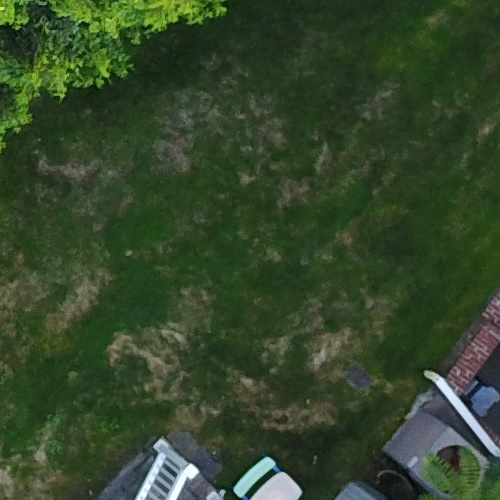air conditioner: (371, 402, 496, 500)
